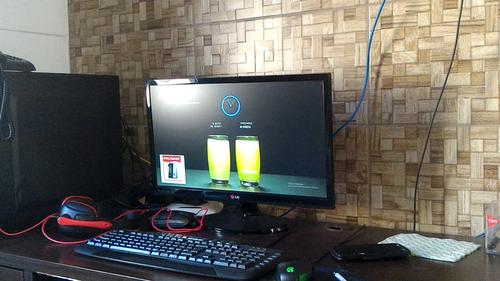Polishop #1: (158, 154, 186, 185)
